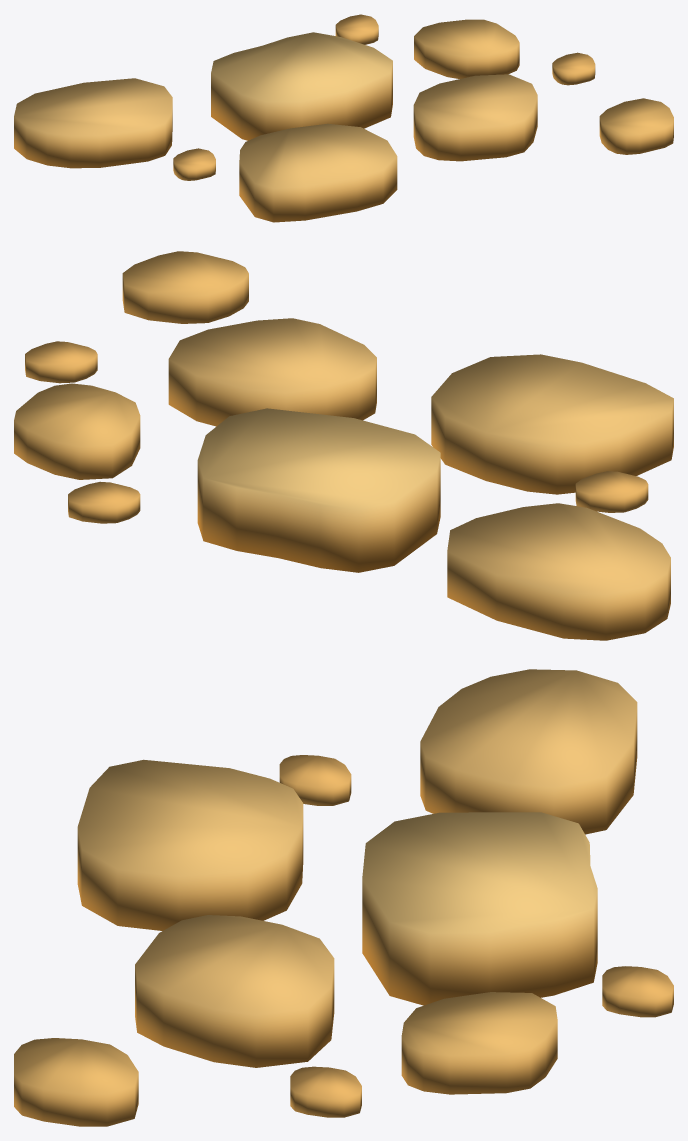
File: obj_PathStraightSand.fbx
The picture shows the model from 3 angles, top to bottom: view 1: azimuth 30°, elevation 25°; view 2: azimuth 150°, elevation 25°; view 3: azimuth 270°, elevation 25°; orthographic projection. The views are drawn at different scales.
Parts seen in each view (by area): view 1: obj_PathStraightSand; view 2: obj_PathStraightSand; view 3: obj_PathStraightSand.
Part boxes in pixels (x1,y1,x2,y2): obj_PathStraightSand: (14,14,673,222); obj_PathStraightSand: (14,251,673,640); obj_PathStraightSand: (14,669,673,1126).
Size of the model in its own units: 1022 by 85.29 by 688.
